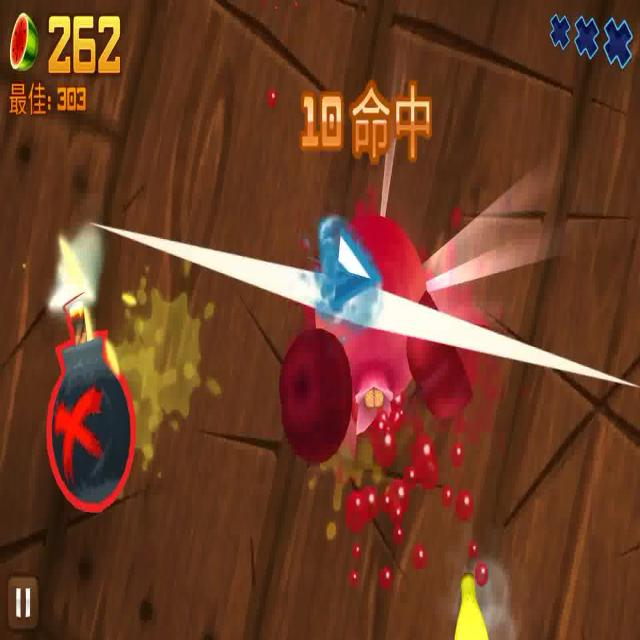bomb: (47, 288, 136, 514)
fruit: (315, 213, 429, 400), (282, 331, 354, 468), (412, 292, 471, 420), (454, 567, 490, 640)
